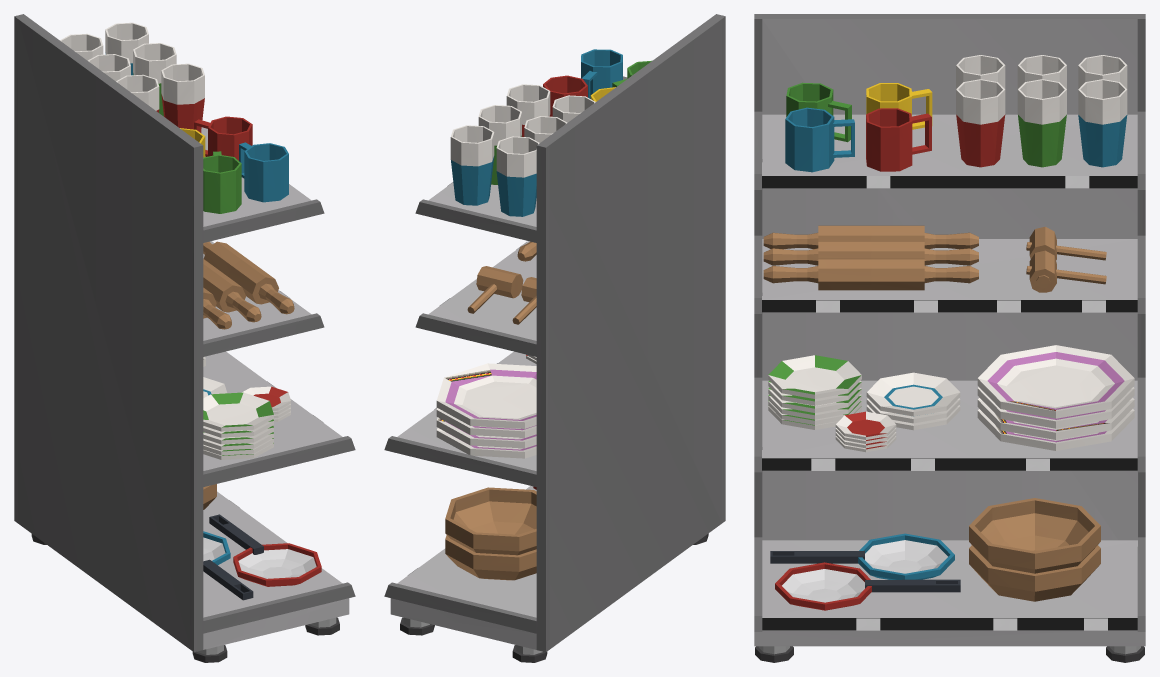
File: SM_shopShelve_05.glb
3 views of the same model, side by side, from view 1: azimuth 30°, elevation 25°; view 2: azimuth 150°, elevation 25°; view 3: azimuth 270°, elevation 25° (orthographic). The views are drawn at different scales.
Parts seen in each view (by area): view 1: SM_shopShelve_05; view 2: SM_shopShelve_05; view 3: SM_shopShelve_05.
Part boxes in pixels (bbox=[...]): SM_shopShelve_05: bbox=[14, 14, 355, 662]; SM_shopShelve_05: bbox=[384, 14, 725, 662]; SM_shopShelve_05: bbox=[754, 14, 1145, 662].
Bounding box in the file's own units: 0.52 × 1.6 × 1.
Materials: 1 (1 with a texture image).
